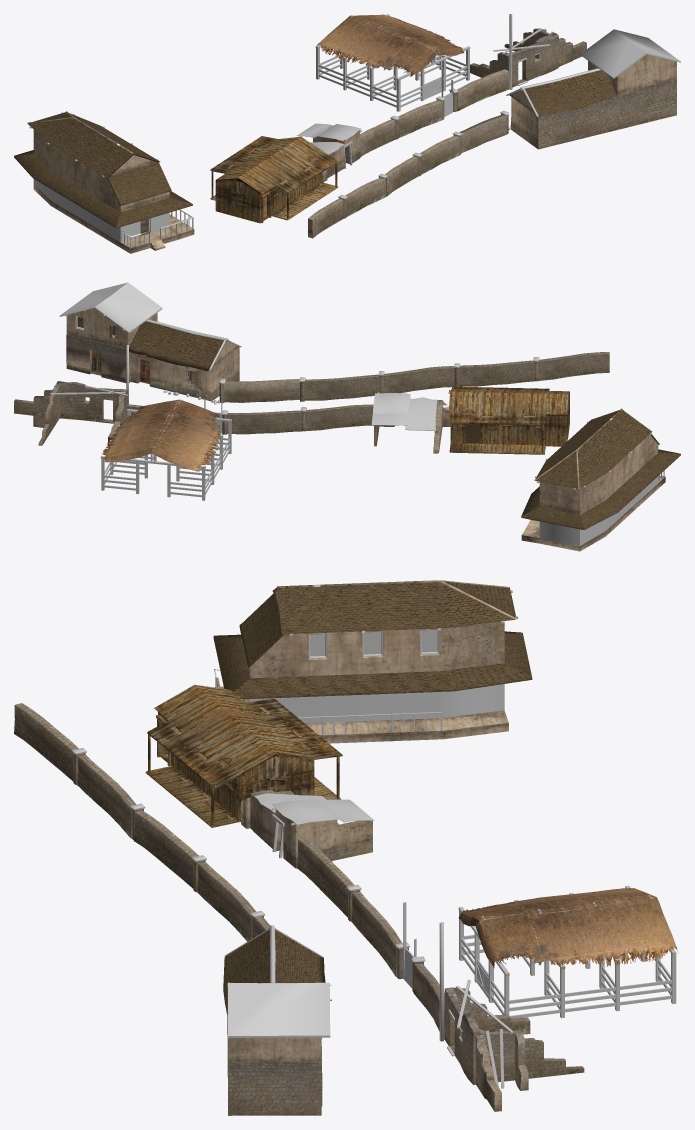
The model's file is FarmArea.obj.
3 renders of one model, top to bottom at view 1: azimuth 30°, elevation 25°; view 2: azimuth 150°, elevation 25°; view 3: azimuth 270°, elevation 25°, orthographic. The views are drawn at different scales.
Parts seen in each view (by area): view 1: FarmBuildings; view 2: FarmBuildings; view 3: FarmBuildings.
Boxes of the visible parts, left/top/right/bottom form: FarmBuildings: left=14, top=14, right=680, bottom=253; FarmBuildings: left=14, top=282, right=680, bottom=551; FarmBuildings: left=14, top=580, right=678, bottom=1115.
Bounding box in the file's own units: 3929 × 522 × 2489.
